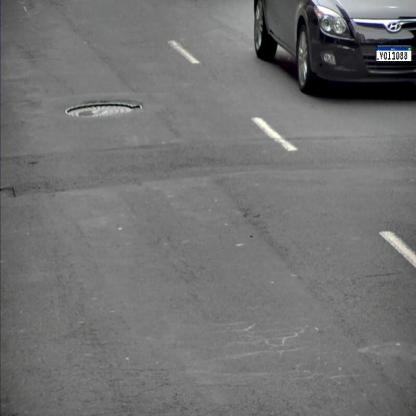PlacaM: (376, 46, 412, 62)
